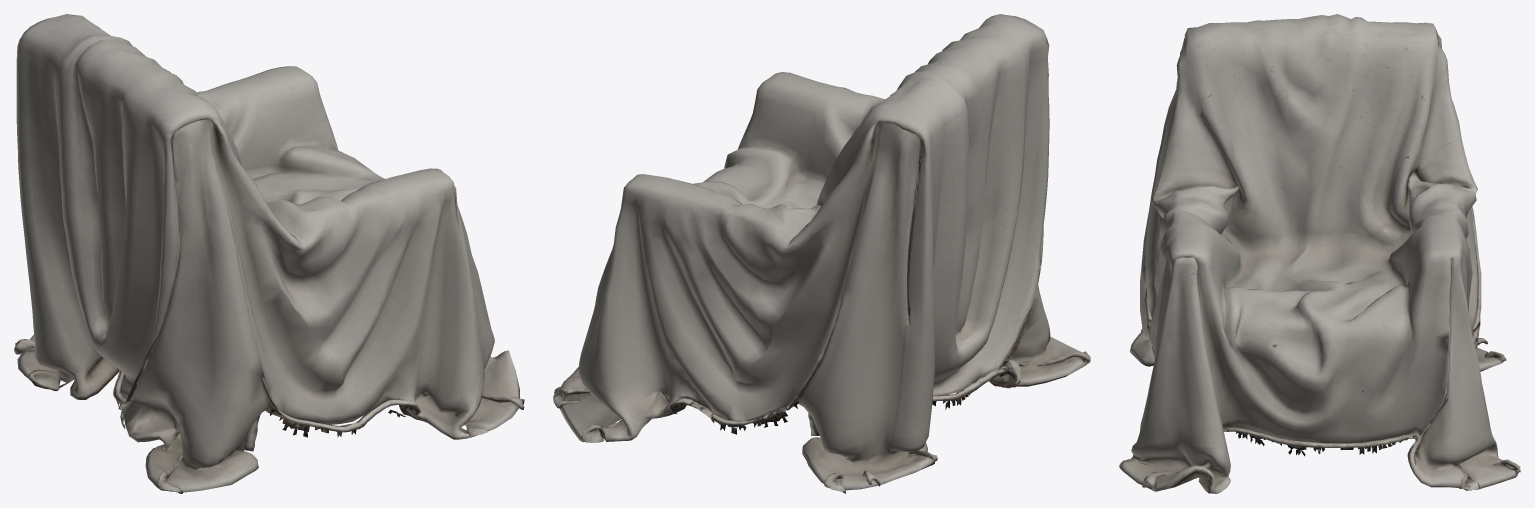
The model's file is prop-covered-shape-v01.glb.
3 renders of one model, left to right at view 1: azimuth 30°, elevation 25°; view 2: azimuth 150°, elevation 25°; view 3: azimuth 270°, elevation 25°, orthographic. The views are drawn at different scales.
Parts seen in each view (by area): view 1: tripo_node_64086dd1-6d60-425f-a27b-7ba84321569f; view 2: tripo_node_64086dd1-6d60-425f-a27b-7ba84321569f; view 3: tripo_node_64086dd1-6d60-425f-a27b-7ba84321569f.
Boxes of the visible parts, x1=… form: tripo_node_64086dd1-6d60-425f-a27b-7ba84321569f: x1=14, y1=14, x2=524, y2=493; tripo_node_64086dd1-6d60-425f-a27b-7ba84321569f: x1=553, y1=14, x2=1090, y2=493; tripo_node_64086dd1-6d60-425f-a27b-7ba84321569f: x1=1119, y1=14, x2=1520, y2=493.
Size of the model in its own units: 1.43 by 1.35 by 1.43.
Materials: 1 (1 with a texture image).
